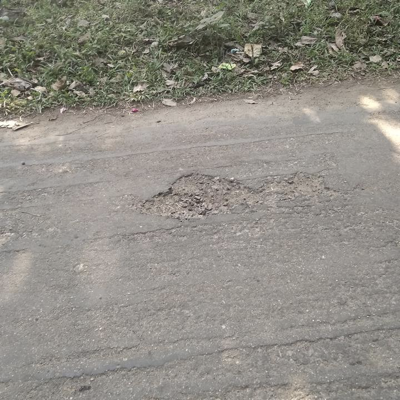pothole: (134, 169, 334, 221)
